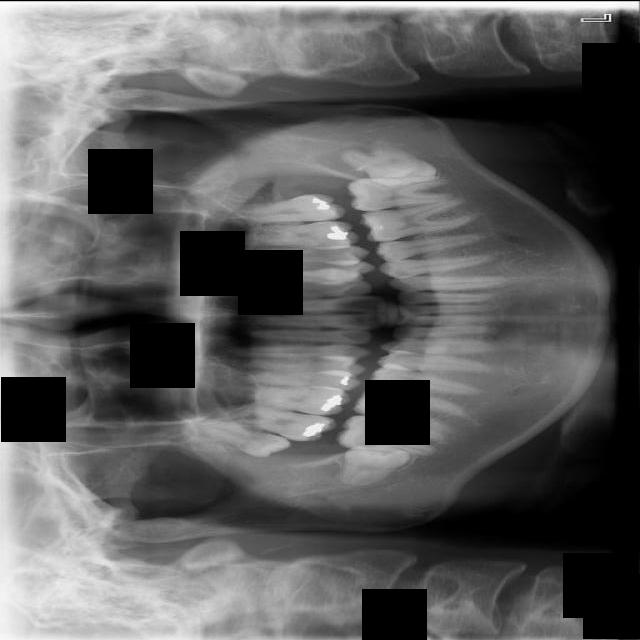3M ESPE Implant: (187, 412, 294, 464)
52: (278, 413, 336, 441), (293, 192, 349, 221), (306, 219, 359, 249), (300, 386, 353, 415), (317, 370, 362, 391)
73: (590, 14, 614, 22)
BioHorizons Implant: (216, 189, 344, 235), (215, 399, 337, 447)
Biomet 3i Implant: (339, 127, 442, 205)
Blue Sky Bio Implant: (347, 171, 453, 213)
Implant: (336, 411, 448, 459)
Keystone Dental Implant: (338, 444, 409, 486)
